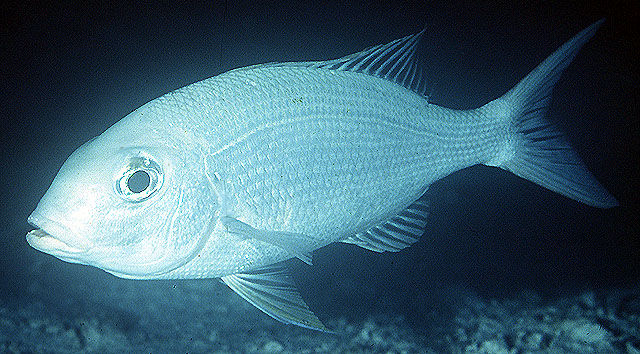fish: (26, 18, 623, 334)
